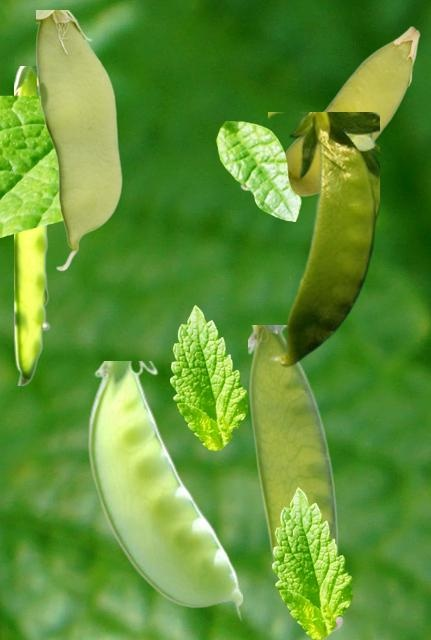pea: (87, 361, 241, 621), (240, 26, 419, 195), (248, 325, 342, 630), (268, 112, 378, 366), (36, 10, 121, 270), (14, 66, 50, 384)
